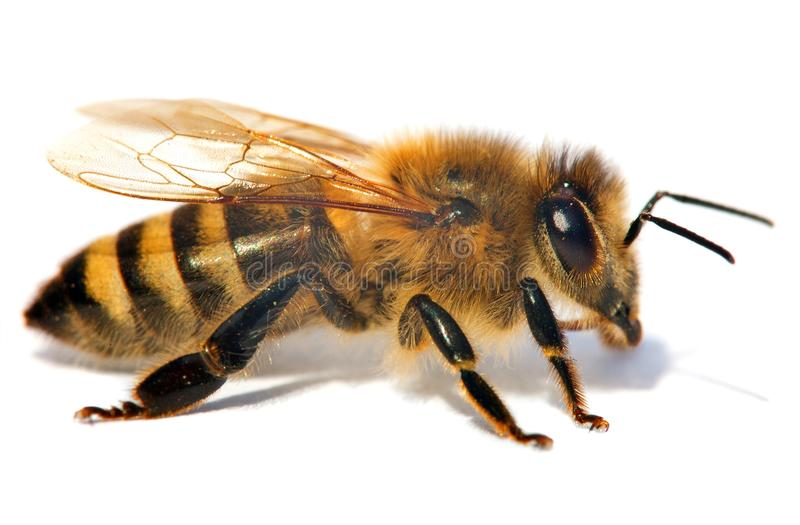bee: (13, 70, 777, 484)
